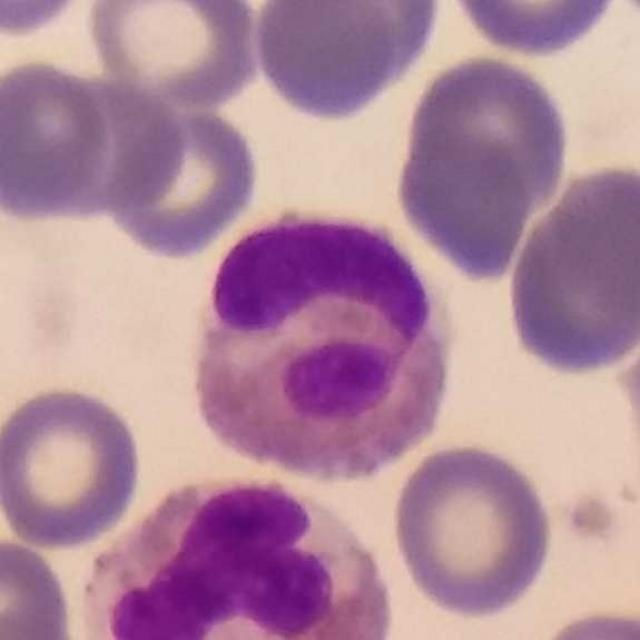Eosinophil: (175, 192, 457, 488), (86, 473, 384, 640)
RBC: (387, 438, 559, 622), (502, 157, 639, 379), (395, 51, 576, 216), (102, 100, 265, 261), (1, 380, 148, 551), (389, 117, 536, 285), (81, 0, 265, 109), (249, 0, 404, 126), (1, 54, 114, 226), (298, 0, 446, 100), (440, 0, 626, 60), (0, 533, 80, 640), (525, 603, 640, 640), (0, 0, 91, 41)
